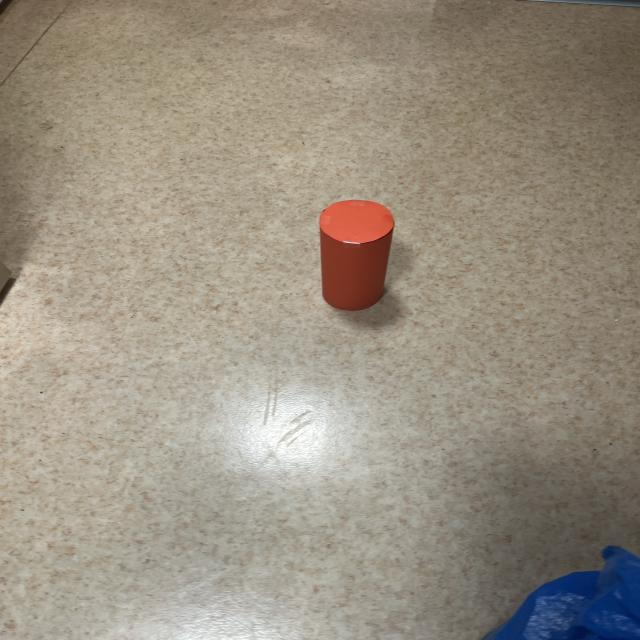przeszkoda: (319, 200, 394, 310)
